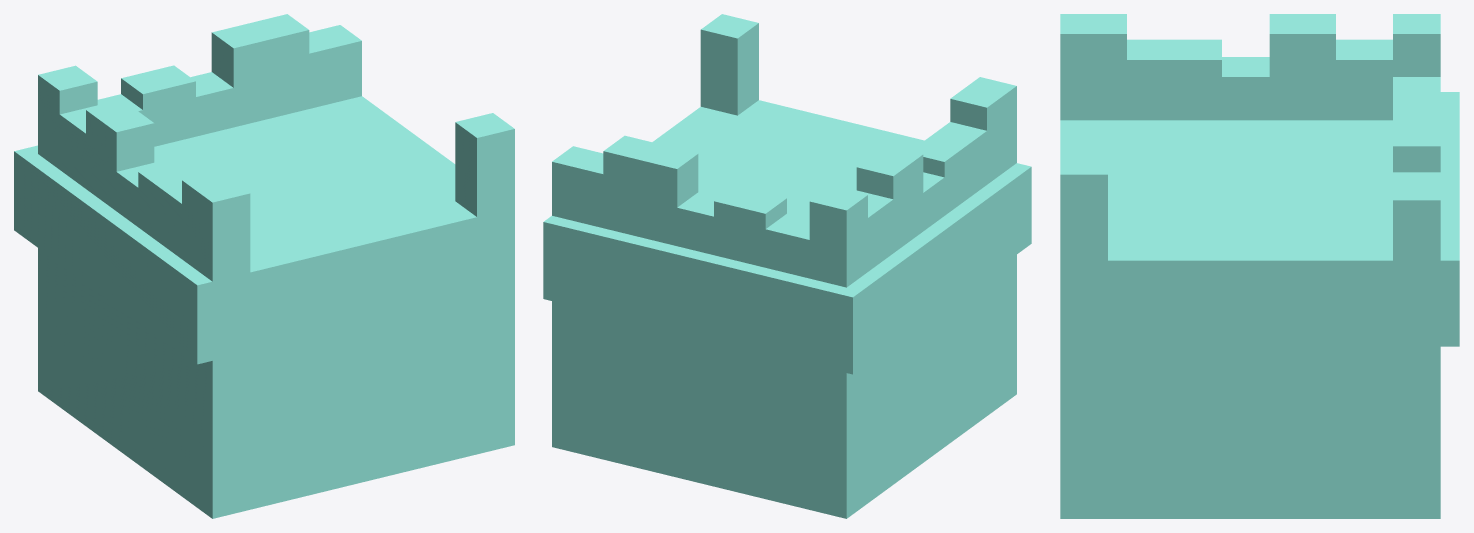
Rendered from muralha remodelada p4 canto.fbx.
The picture shows the model from 3 angles, left to right: view 1: azimuth 30°, elevation 25°; view 2: azimuth 150°, elevation 25°; view 3: azimuth 270°, elevation 25°; orthographic projection. The views are drawn at different scales.
Visible parts, largest first — view 1: muralha remodelada p4 canto; view 2: muralha remodelada p4 canto; view 3: muralha remodelada p4 canto.
Part boxes in pixels (x1,y1,x2,y2): muralha remodelada p4 canto: [14, 14, 514, 518]; muralha remodelada p4 canto: [543, 14, 1031, 518]; muralha remodelada p4 canto: [1060, 14, 1459, 518].
Bounding box in the file's own units: 420 × 400 × 420.
